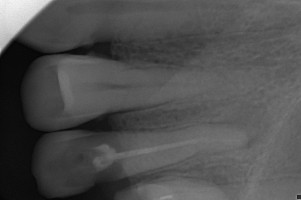Furcation Involvement: (226, 103, 274, 149)
